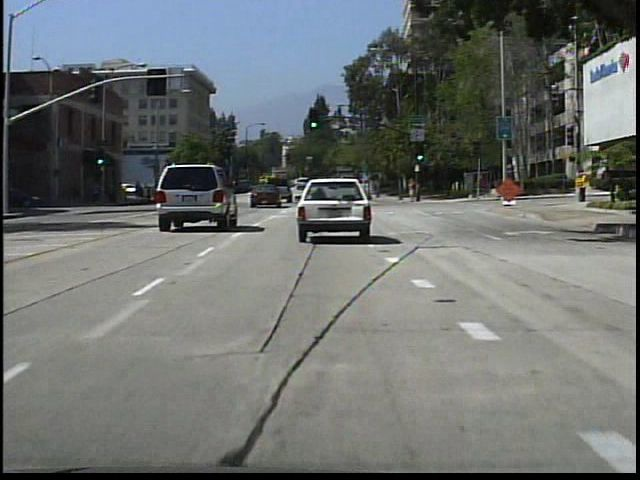person: (406, 174, 422, 207)
